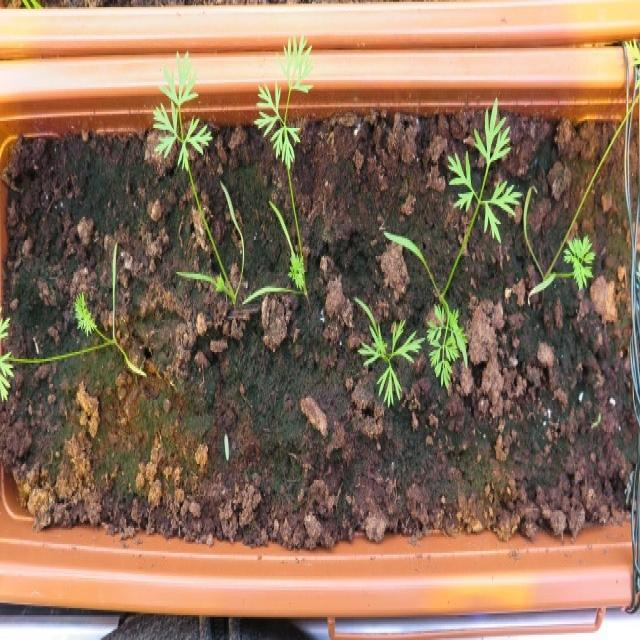crop: (347, 293, 425, 407)
